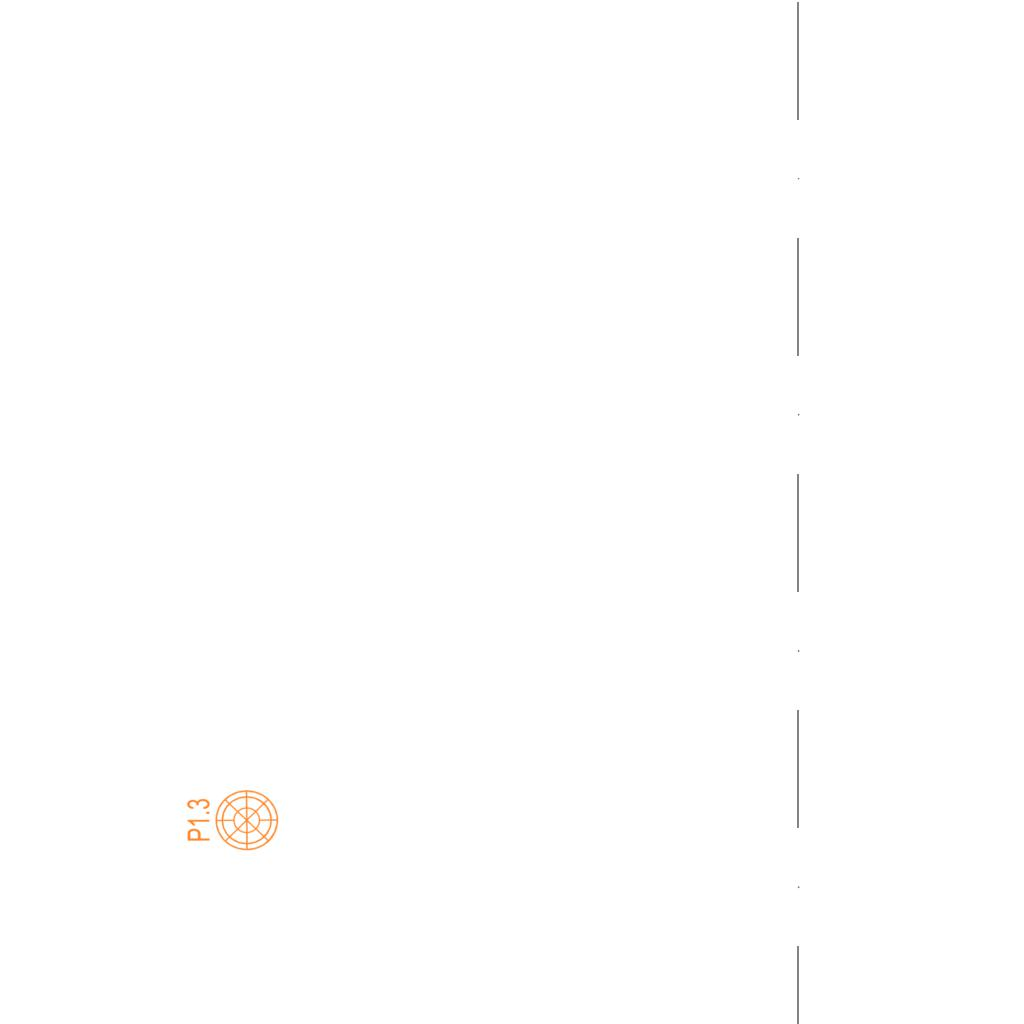Aufbaurundleuchte_LED_Treppenhaus: (178, 783, 280, 852)
